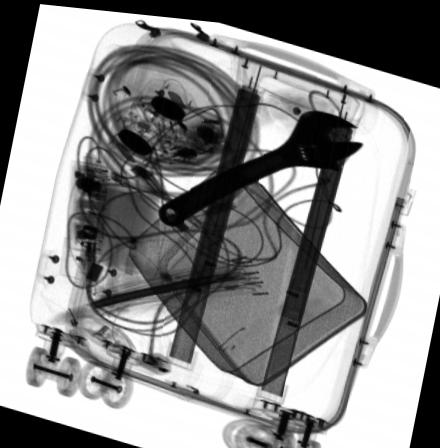Wrench: (157, 102, 363, 223)
